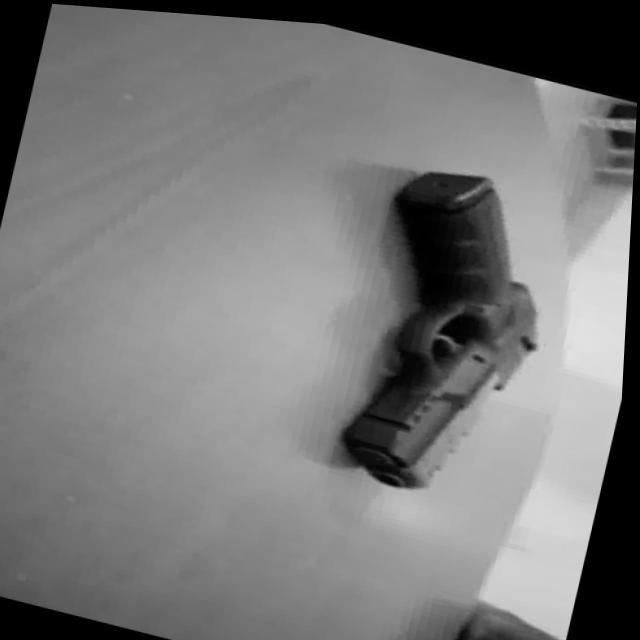weapon: (331, 144, 577, 508)
